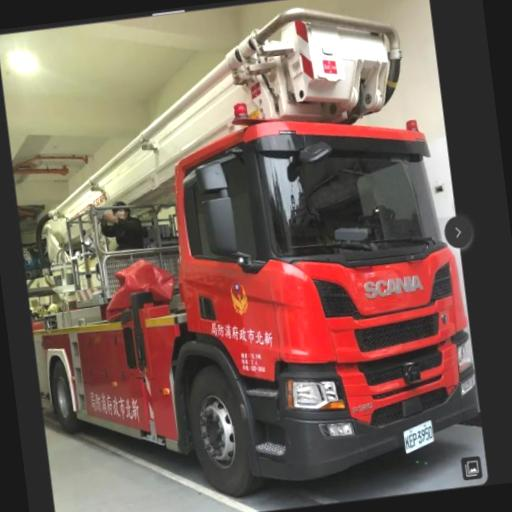fire truck: (29, 8, 479, 496)
